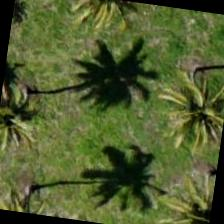Kelapa_Sawit: (140, 24, 223, 127), (0, 139, 83, 220), (0, 55, 67, 153), (153, 167, 216, 223)
